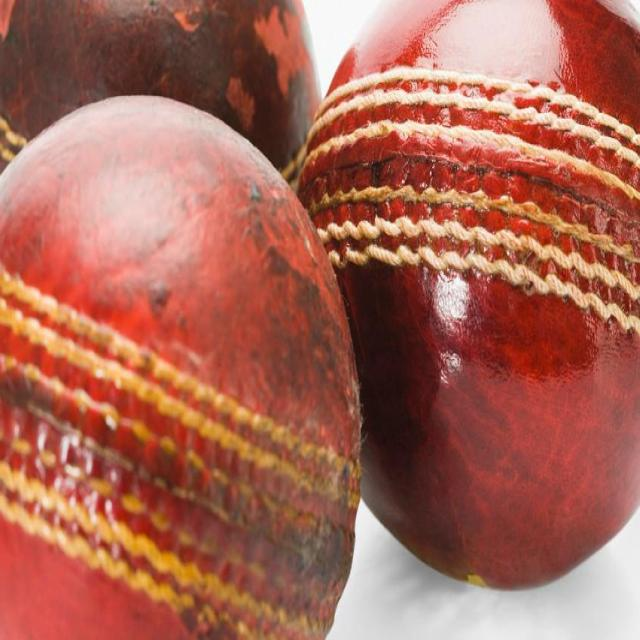ball: (298, 2, 639, 588), (0, 93, 362, 640), (0, 2, 322, 230)
